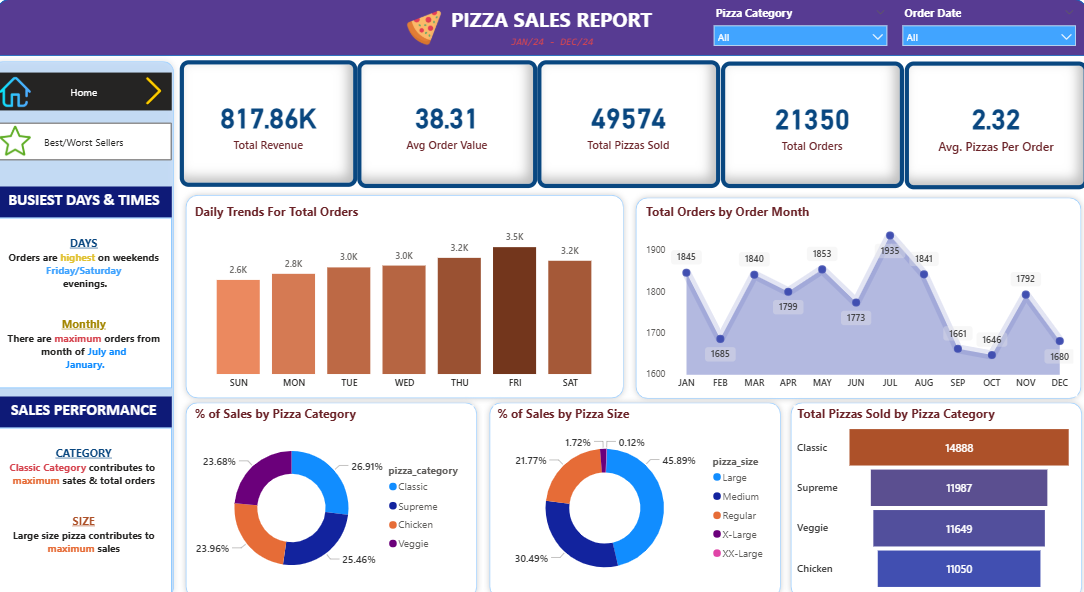

This screenshot's page, from the dashboard's own definition file:
{"tool":"powerbi","page":{"name":"Home","canvas":[1500,820],"ordinal":0},"visuals":[{"type":"shape","box":[0,88.6,258.6,731.4],"z":0},{"type":"card","fields":{"Values":["pizza_sales.Total Revenue"]},"box":[258.6,94.3,237.1,168.6],"z":1000},{"type":"card","fields":{"Values":["pizza_sales.Avg Order Value"]},"box":[495.7,94.3,240,170],"z":2000},{"type":"card","fields":{"Values":["pizza_sales.Total Pizzas Sold"]},"box":[735.7,95.7,244.3,170],"z":3000},{"type":"card","fields":{"Values":["pizza_sales.Total Orders"]},"box":[980,97.1,244.3,168.6],"z":4000},{"type":"card","fields":{"Values":["pizza_sales.Avg. Pizzas Per Order"]},"box":[1224.3,97.1,244.3,170],"z":5000},{"type":"shape","box":[12.9,12.9,1455.7,75.7],"z":6000},{"type":"textbox","box":[615.7,17.1,288.6,57.1],"z":7000},{"type":"textbox","box":[694.3,54.3,130,40],"z":8000},{"type":"image","box":[551.4,22.9,64.3,57.1],"z":9000},{"type":"shape","box":[258.6,267.1,600,287.1],"z":10000},{"type":"columnChart","title":"Daily Trends For Total Orders ","fields":{"Category":["pizza_sales.Order Day"],"Y":["pizza_sales.Total Orders"]},"box":[272.9,284.3,570,258.6],"z":11000},{"type":"shape","box":[858.6,270,610,284.3],"z":12000},{"type":"areaChart","fields":{"Y":["pizza_sales.Total Orders"],"Category":["pizza_sales.Order Month"]},"box":[874.3,284.3,580,258.6],"z":13000},{"type":"shape","box":[258.6,542.9,404.3,277.1],"z":14000},{"type":"shape","box":[662.9,542.9,404.3,277.1],"z":15000},{"type":"shape","box":[1064.3,542.9,404.3,277.1],"z":16000},{"type":"donutChart","title":"% of Sales by Pizza Category","fields":{"Category":["pizza_sales.pizza_category"],"Y":["pizza_sales.Total Revenue"]},"box":[272.9,554.3,377.1,252.9],"z":17000},{"type":"donutChart","title":"% of Sales by Pizza Size","fields":{"Y":["pizza_sales.Total Revenue"],"Category":["pizza_sales.pizza_size"]},"box":[677.1,554.3,377.1,252.9],"z":18000},{"type":"funnel","title":"Total Pizzas Sold by Pizza Category","fields":{"Category":["pizza_sales.pizza_category"],"Y":["pizza_sales.Total Pizzas Sold"]},"box":[1077.1,554.3,377.1,252.9],"z":19000},{"type":"textbox","box":[12.9,262.9,234.3,41.4],"z":20000},{"type":"textbox","box":[12.9,304.3,234.3,227.1],"z":21000},{"type":"textbox","box":[12.9,542.9,234.3,41.4],"z":22000},{"type":"textbox","box":[12.9,585.7,234.3,221.4],"z":23000},{"type":"slicer","fields":{"Values":["pizza_sales.pizza_category"]},"box":[960,17.1,251.4,62.9],"z":24000},{"type":"slicer","fields":{"Values":["pizza_sales.order_date"]},"box":[1211.4,17.1,251.4,62.9],"z":25000},{"type":"pageNavigator","box":[12.9,111.4,234.3,50],"z":26000},{"type":"pageNavigator","box":[12.9,178.6,234.3,50],"z":27000},{"type":"image","box":[200,105.7,47.1,61.4],"z":28000},{"type":"image","box":[12.9,111.4,51.4,51.4],"z":28001},{"type":"image","box":[12.9,177.1,51.4,51.4],"z":28002}]}

Visuals, with their boxes on the page's 1500x820 design canvas (x1, y1, x2, y2). These are canvas units, not pixel positions in the 1084x592 screenshot, which may show the page scaled, cropped or inside an application window:
shape: x1=0 y1=89 x2=259 y2=820
card - pizza_sales.Total Revenue: x1=259 y1=94 x2=496 y2=263
card - pizza_sales.Avg Order Value: x1=496 y1=94 x2=736 y2=264
card - pizza_sales.Total Pizzas Sold: x1=736 y1=96 x2=980 y2=266
card - pizza_sales.Total Orders: x1=980 y1=97 x2=1224 y2=266
card - pizza_sales.Avg. Pizzas Per Order: x1=1224 y1=97 x2=1469 y2=267
shape: x1=13 y1=13 x2=1469 y2=89
textbox: x1=616 y1=17 x2=904 y2=74
textbox: x1=694 y1=54 x2=824 y2=94
image: x1=551 y1=23 x2=616 y2=80
shape: x1=259 y1=267 x2=859 y2=554
"Daily Trends For Total Orders " columnChart: x1=273 y1=284 x2=843 y2=543
shape: x1=859 y1=270 x2=1469 y2=554
areaChart - pizza_sales.Total Orders x pizza_sales.Order Month: x1=874 y1=284 x2=1454 y2=543
shape: x1=259 y1=543 x2=663 y2=820
shape: x1=663 y1=543 x2=1067 y2=820
shape: x1=1064 y1=543 x2=1469 y2=820
"% of Sales by Pizza Category" donutChart: x1=273 y1=554 x2=650 y2=807
"% of Sales by Pizza Size" donutChart: x1=677 y1=554 x2=1054 y2=807
"Total Pizzas Sold by Pizza Category" funnel: x1=1077 y1=554 x2=1454 y2=807
textbox: x1=13 y1=263 x2=247 y2=304
textbox: x1=13 y1=304 x2=247 y2=531
textbox: x1=13 y1=543 x2=247 y2=584
textbox: x1=13 y1=586 x2=247 y2=807
slicer - pizza_sales.pizza_category: x1=960 y1=17 x2=1211 y2=80
slicer - pizza_sales.order_date: x1=1211 y1=17 x2=1463 y2=80
pageNavigator: x1=13 y1=111 x2=247 y2=161
pageNavigator: x1=13 y1=179 x2=247 y2=229
image: x1=200 y1=106 x2=247 y2=167
image: x1=13 y1=111 x2=64 y2=163
image: x1=13 y1=177 x2=64 y2=228
